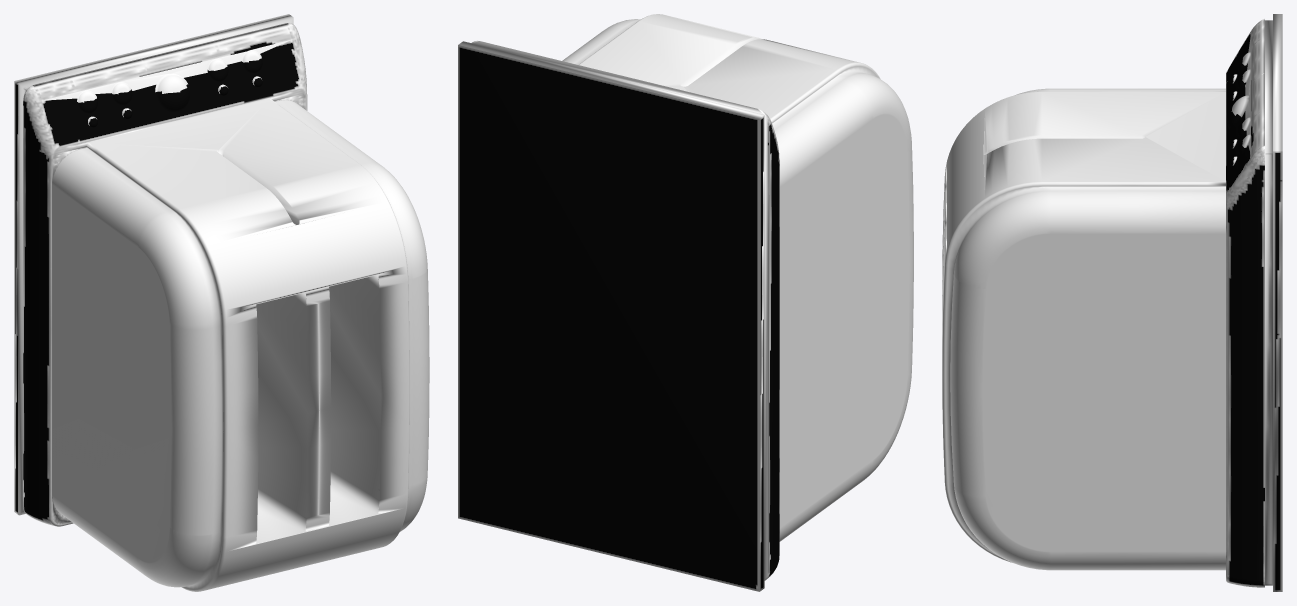
File: toasterbody.dae
The picture shows the model from 3 angles, left to right: view 1: azimuth 30°, elevation 25°; view 2: azimuth 150°, elevation 25°; view 3: azimuth 270°, elevation 25°; orthographic projection. The views are drawn at different scales.
Visible parts, largest first — view 1: transform1; view 2: transform1; view 3: transform1.
Part boxes in pixels (x1,y1,x2,y2): transform1: [14, 14, 429, 591]; transform1: [458, 14, 913, 591]; transform1: [942, 14, 1282, 591].
Size of the model in its own units: 0.2 by 0.3 by 0.21.
Materials: 1 (1 with a texture image).
